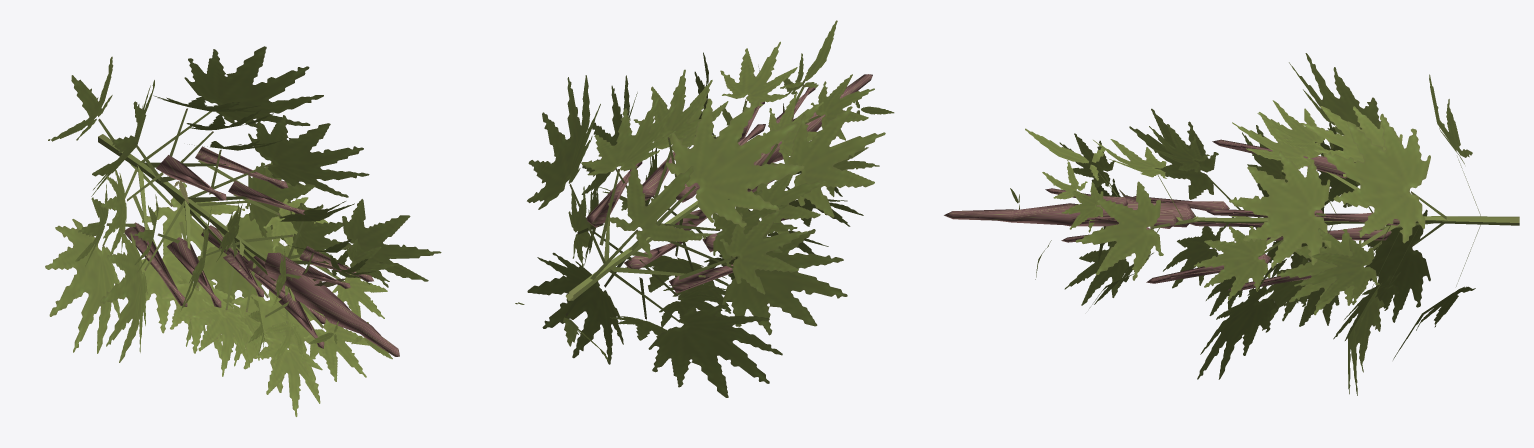
The model's file is p_purple_haze_flowering_c1_cards.obj.
3 renders of one model, left to right at view 1: azimuth 30°, elevation 25°; view 2: azimuth 150°, elevation 25°; view 3: azimuth 270°, elevation 25°, orthographic. The views are drawn at different scales.
Bounding box in the file's own units: 1.3 × 1.34 × 2.03.
1 material, 1 textured.
